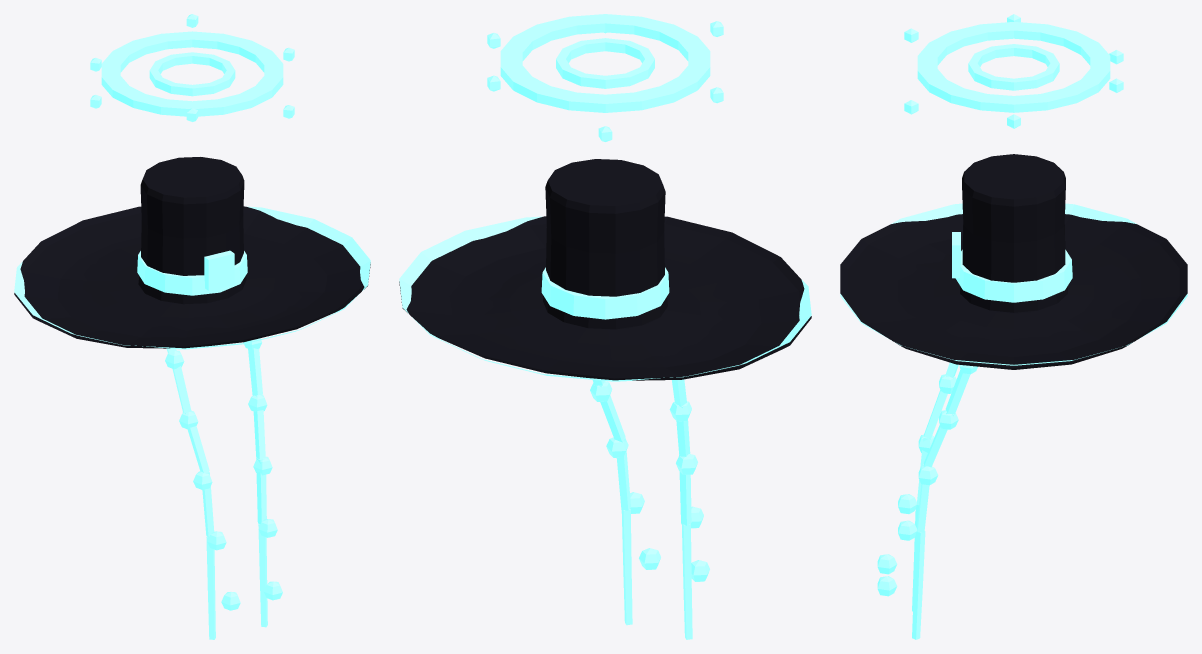
File: gear_gat_t5.glb
3 views of the same model, side by side, from view 1: azimuth 30°, elevation 25°; view 2: azimuth 150°, elevation 25°; view 3: azimuth 270°, elevation 25° (orthographic). The views are drawn at different scales.
Parts seen in each view (by area): view 1: gear_gat_t5; view 2: gear_gat_t5; view 3: gear_gat_t5.
Part boxes in pixels (<box>): gear_gat_t5: <box>14,14,370,639</box>; gear_gat_t5: <box>399,14,811,639</box>; gear_gat_t5: <box>840,14,1187,639</box>.
Size of the model in its own units: 0.86 by 1.38 by 0.7622.
